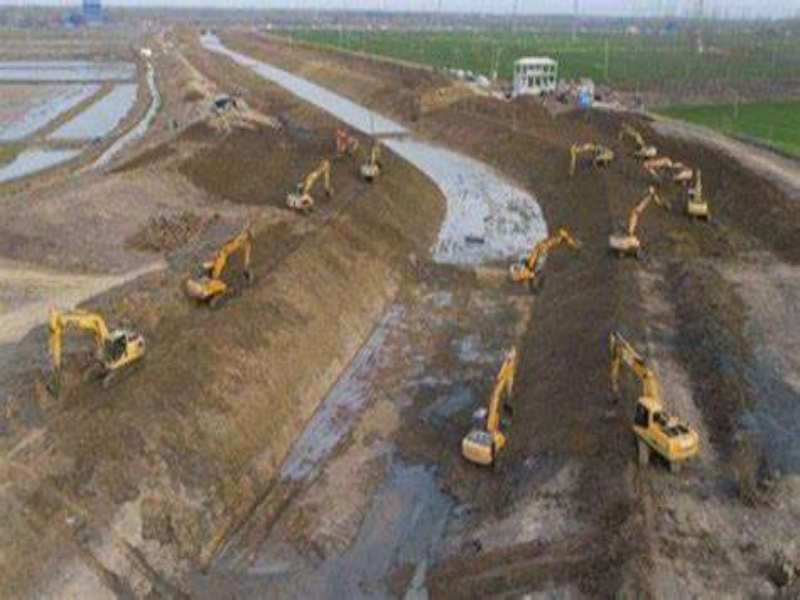excavator: (605, 331, 703, 477), (39, 301, 148, 391), (455, 355, 518, 474), (182, 230, 255, 312), (499, 227, 585, 296), (606, 188, 662, 261), (278, 161, 333, 218), (563, 139, 616, 181)
